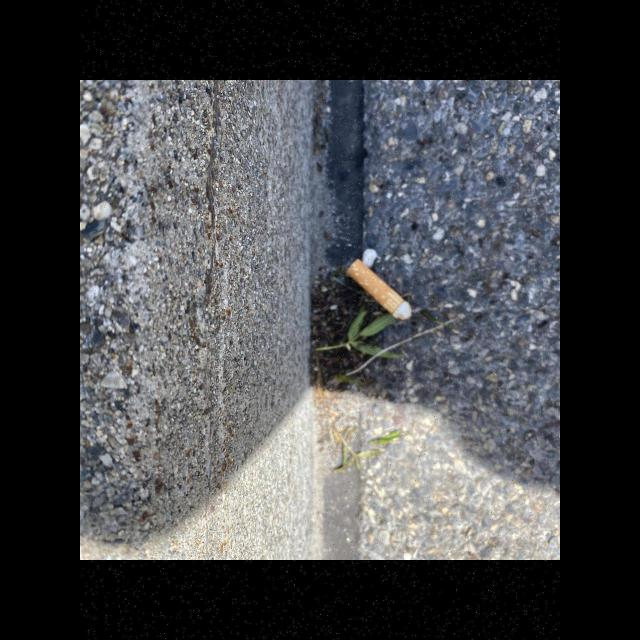cigarette: (345, 258, 414, 320)
